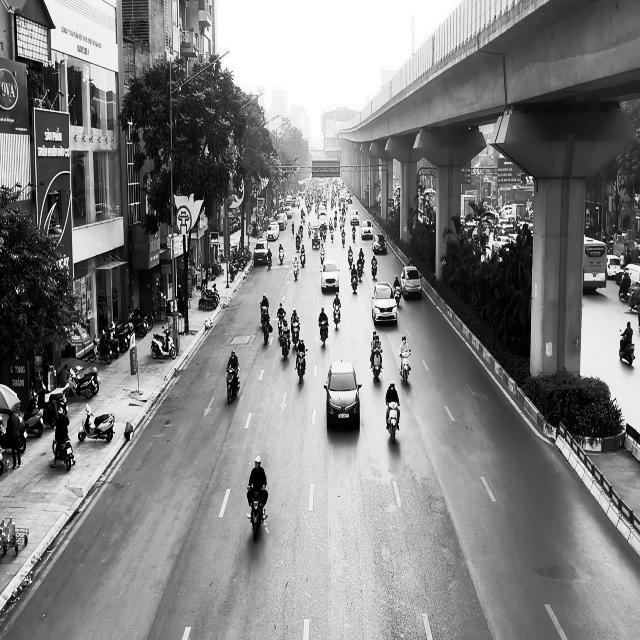bus: (583, 236, 607, 293)
car: (324, 359, 362, 430), (371, 280, 398, 325), (400, 265, 422, 300), (320, 258, 340, 292), (253, 239, 270, 265), (372, 233, 387, 254), (360, 220, 373, 239)
motorbike: (78, 402, 115, 442), (246, 486, 268, 542), (51, 433, 75, 470), (151, 326, 176, 358), (386, 400, 400, 444), (619, 330, 635, 366), (226, 365, 240, 404), (295, 348, 308, 384), (398, 349, 411, 385), (279, 326, 290, 361), (261, 316, 272, 345), (371, 349, 382, 378), (318, 320, 329, 347), (333, 306, 340, 329), (293, 257, 299, 280)
